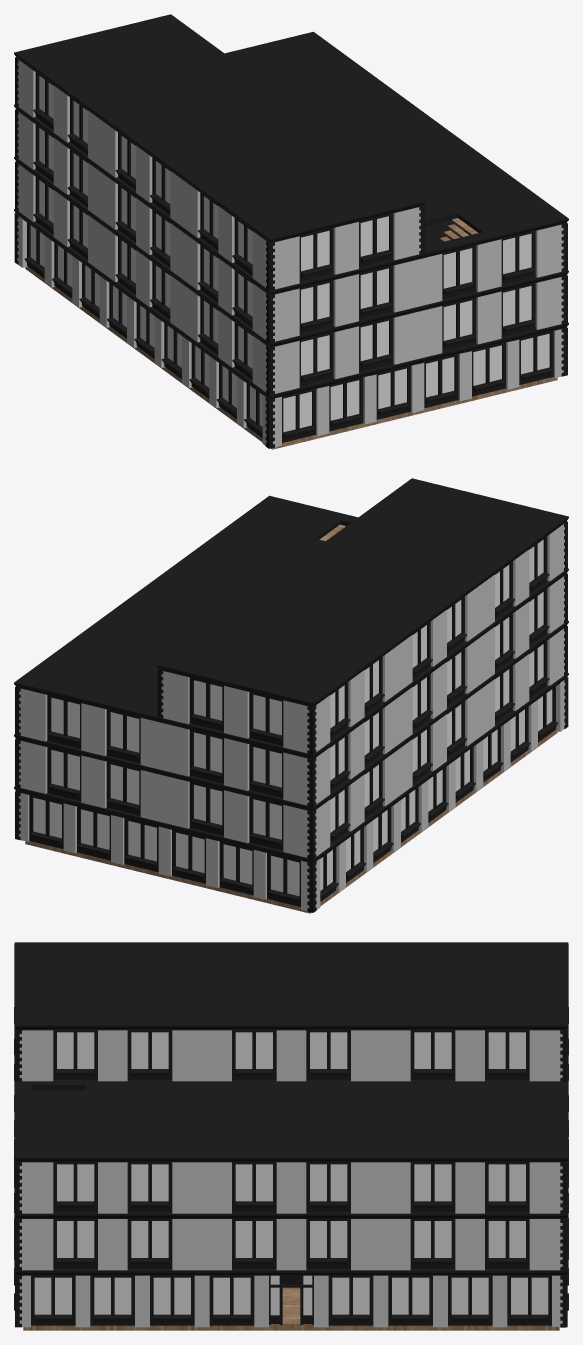
Rendered from Building_Maze.fbx.
3 renders of one model, top to bottom at view 1: azimuth 30°, elevation 25°; view 2: azimuth 150°, elevation 25°; view 3: azimuth 270°, elevation 25°, orthographic. The views are drawn at different scales.
Visible parts, largest first — view 1: OverhangCorner.003, OverhangCorner.002, OverhangCorner.001, OverhangCorner, Pillar.043, Pillar.030, Pillar.103, Cube.046, Cube.073, Cube.015, Cube.045, Cube.074 (+81 smaller); view 2: OverhangCorner.003, OverhangCorner.002, OverhangCorner.001, OverhangCorner, Pillar.019, Pillar.036, Pillar.090, Cube.099, Cube.004, Cube.007, Cube.070, Cube.097 (+81 smaller); view 3: OverhangCorner.003, OverhangCorner.002, OverhangCorner.001, OverhangCorner, Cube.002, Cube.003, Cube.012, Cube.027, Cube.048, Cube.054, Cube.071, Cube.081 (+59 smaller).
Boxes of the visible parts, left/top/right/bottom form: OverhangCorner.003: left=14, top=14, right=426, bottom=243; OverhangCorner.002: left=14, top=31, right=568, bottom=295; OverhangCorner.001: left=14, top=157, right=568, bottom=347; OverhangCorner: left=14, top=209, right=568, bottom=398; Pillar.043: left=252, top=283, right=299, bottom=341; Pillar.030: left=252, top=336, right=299, bottom=393; Pillar.103: left=252, top=231, right=299, bottom=289; Cube.046: left=421, top=354, right=458, bottom=408; Cube.073: left=359, top=213, right=393, bottom=267; Cube.015: left=442, top=245, right=476, bottom=299; Cube.045: left=519, top=331, right=553, bottom=384; Cube.074: left=299, top=228, right=333, bottom=281; OverhangCorner.003: left=156, top=478, right=568, bottom=707; OverhangCorner.002: left=14, top=495, right=568, bottom=759; OverhangCorner.001: left=14, top=621, right=568, bottom=811; OverhangCorner: left=14, top=673, right=568, bottom=862; Pillar.019: left=283, top=747, right=330, bottom=805; Pillar.036: left=283, top=800, right=330, bottom=857; Pillar.090: left=283, top=695, right=330, bottom=753; Cube.099: left=249, top=796, right=283, bottom=850; Cube.004: left=124, top=818, right=158, bottom=872; Cube.007: left=47, top=747, right=81, bottom=800; Cube.070: left=189, top=677, right=223, bottom=731; Cube.097: left=219, top=841, right=253, bottom=895; OverhangCorner.003: left=14, top=942, right=568, bottom=1030; OverhangCorner.002: left=14, top=1027, right=568, bottom=1162; OverhangCorner.001: left=14, top=1090, right=568, bottom=1218; OverhangCorner: left=14, top=1216, right=568, bottom=1275; Cube.002: left=328, top=1275, right=373, bottom=1325; Cube.003: left=209, top=1275, right=254, bottom=1325; Cube.012: left=127, top=1162, right=172, bottom=1212; Cube.027: left=410, top=1162, right=455, bottom=1212; Cube.048: left=127, top=1219, right=172, bottom=1268; Cube.054: left=410, top=1219, right=455, bottom=1268; Cube.071: left=127, top=1030, right=172, bottom=1079; Cube.081: left=410, top=1030, right=455, bottom=1079.
Bounding box in the file's own units: 2527 × 1730 × 3727.
